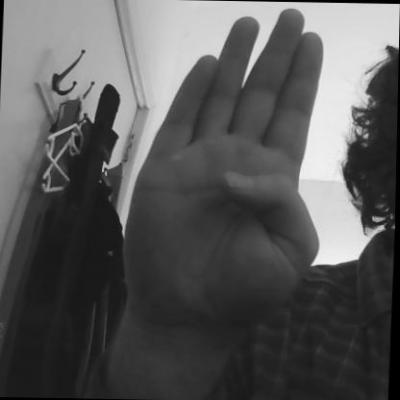hand: (125, 5, 330, 321)
